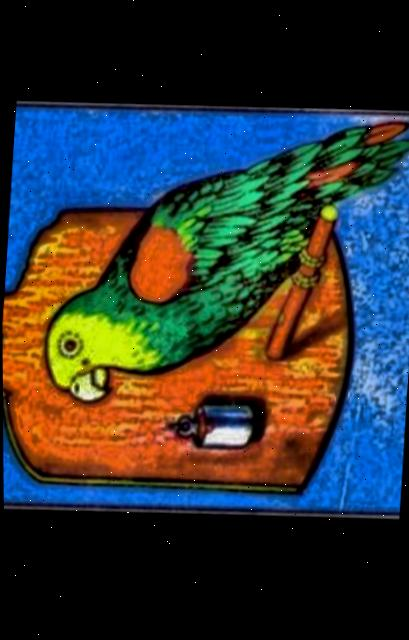El Cotorro: (1, 92, 409, 532)
